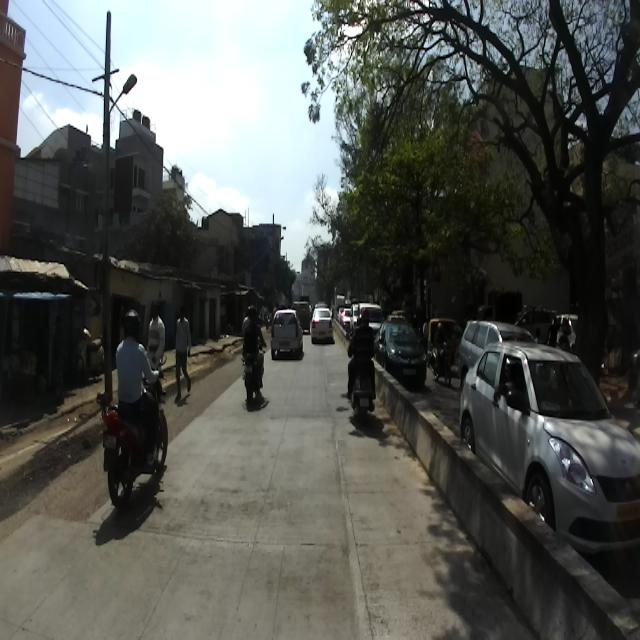car ahead at: (464, 338, 640, 552)
motorcycle ahead at: (96, 390, 172, 507), (344, 350, 382, 433), (239, 341, 266, 406)
